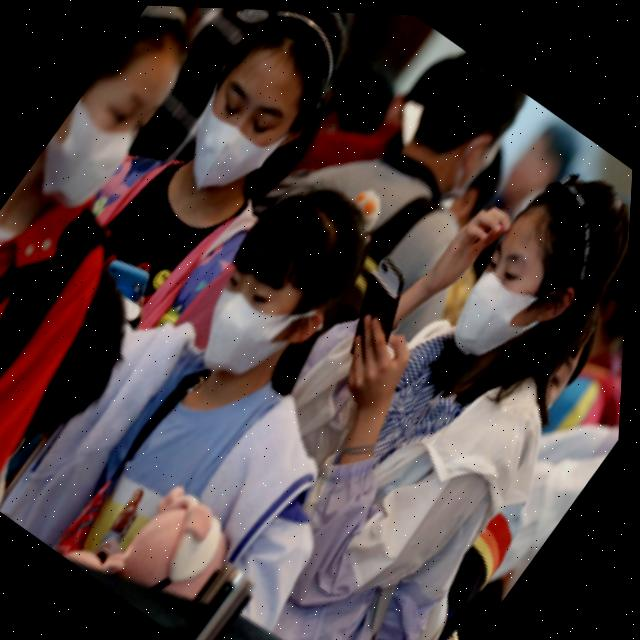Mask: (182, 241, 340, 406), (157, 59, 312, 218), (438, 228, 588, 386), (23, 72, 155, 219)
